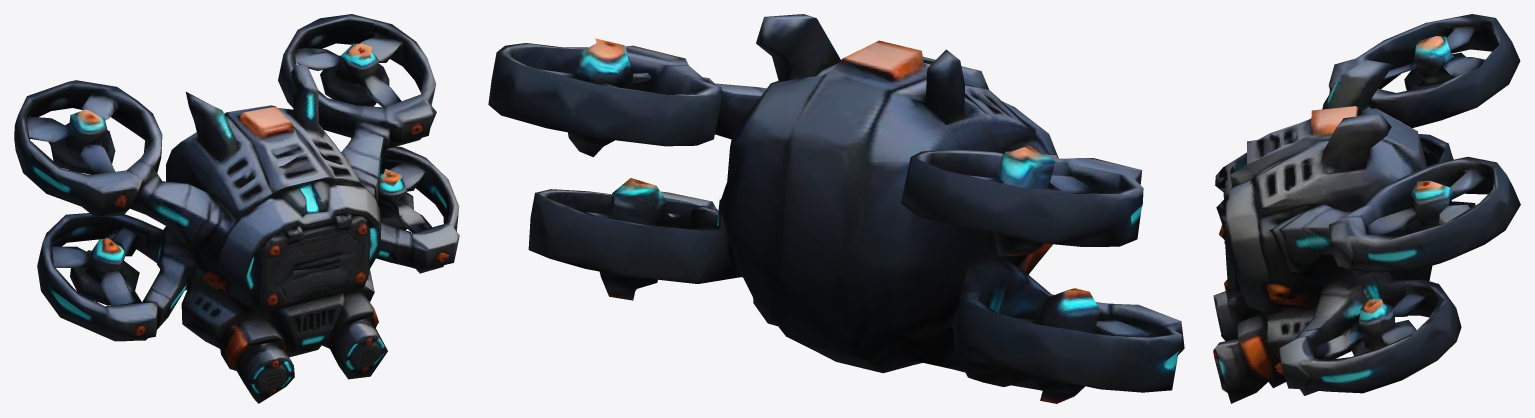
File: GW_SIDEKICK_drone_gun.glb
3 views of the same model, side by side, from view 1: azimuth 30°, elevation 25°; view 2: azimuth 150°, elevation 25°; view 3: azimuth 270°, elevation 25° (orthographic). The views are drawn at different scales.
Visible parts, largest first — view 1: tripo_node_a427a9de-e1f7-470c-9eab-272112e91828; view 2: tripo_node_a427a9de-e1f7-470c-9eab-272112e91828; view 3: tripo_node_a427a9de-e1f7-470c-9eab-272112e91828.
Boxes of the visible parts, left/top/right/bottom form: tripo_node_a427a9de-e1f7-470c-9eab-272112e91828: left=14, top=14, right=459, bottom=403; tripo_node_a427a9de-e1f7-470c-9eab-272112e91828: left=488, top=14, right=1184, bottom=403; tripo_node_a427a9de-e1f7-470c-9eab-272112e91828: left=1213, top=14, right=1520, bottom=403.
Bounding box in the file's own units: 1 × 0.6353 × 0.6162.
1 material, 1 textured.
